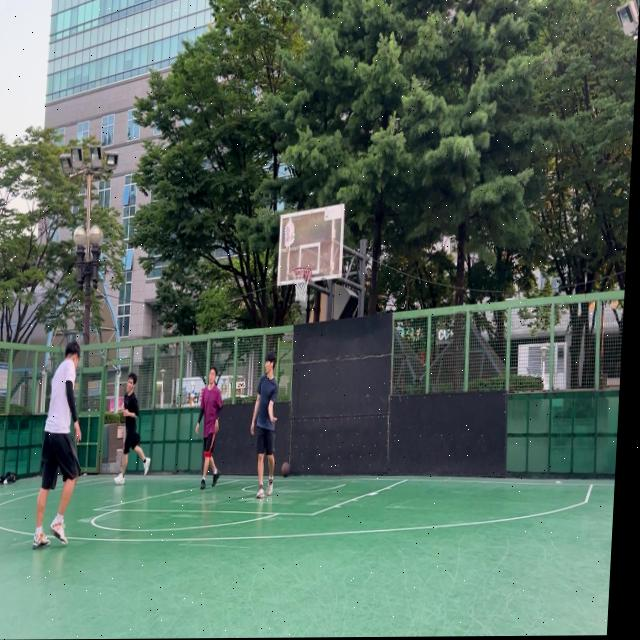basketball: (280, 461, 291, 478)
hoop: (290, 267, 312, 303)
